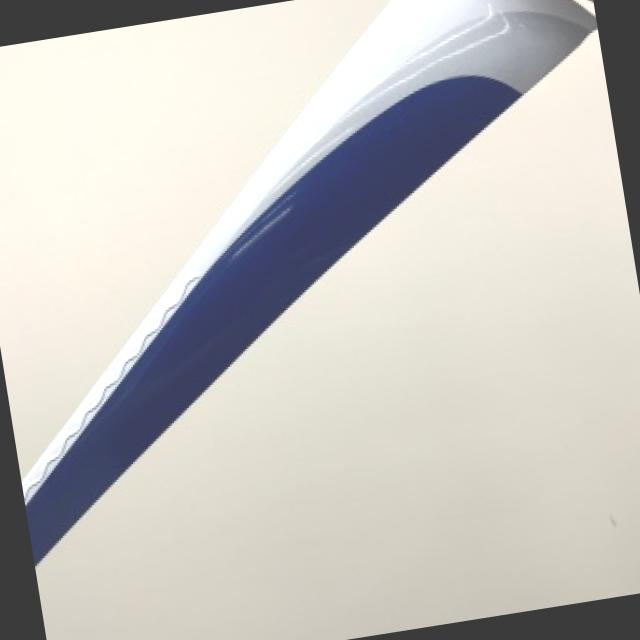healthy: (0, 0, 388, 475), (0, 0, 385, 428)
